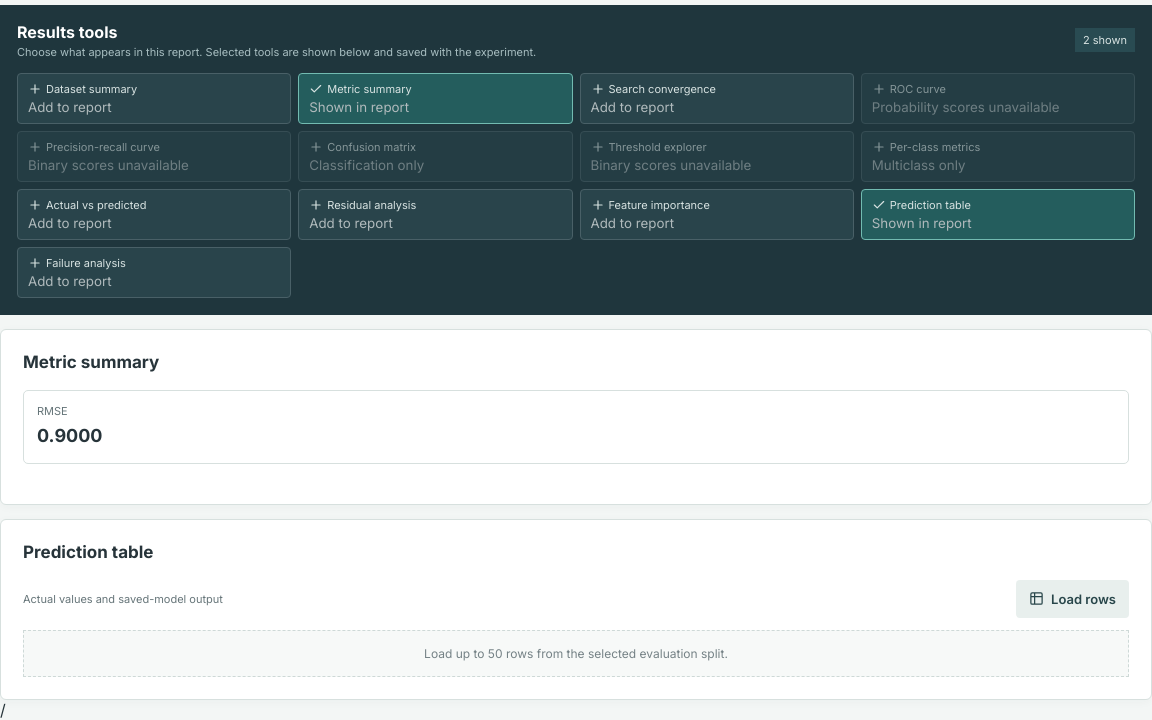
it: loads saved predictions, downloads the selected test partition and shows artifact warnings
The width and height of the screenshot is (1152, 720).
(page scrolled)
Click the button "Load rows": [1073, 599] box [1016,580,1129,618]
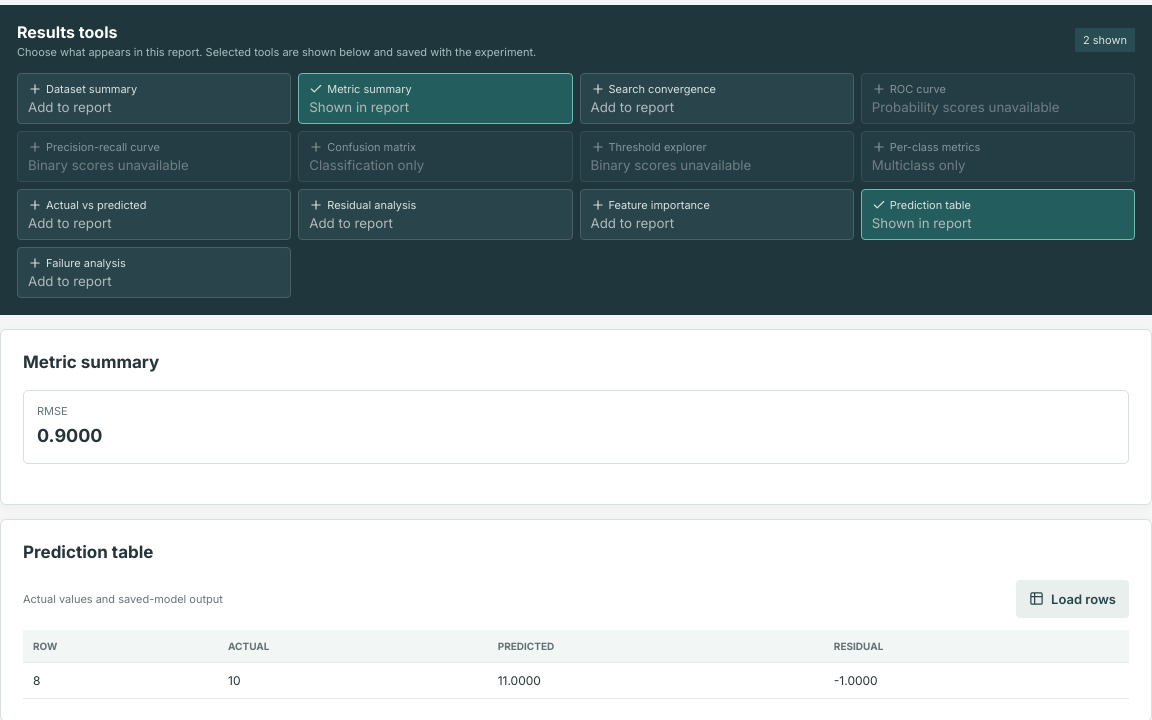
expect the cell "11.0000" is shown: met, box [488,662,824,698]
